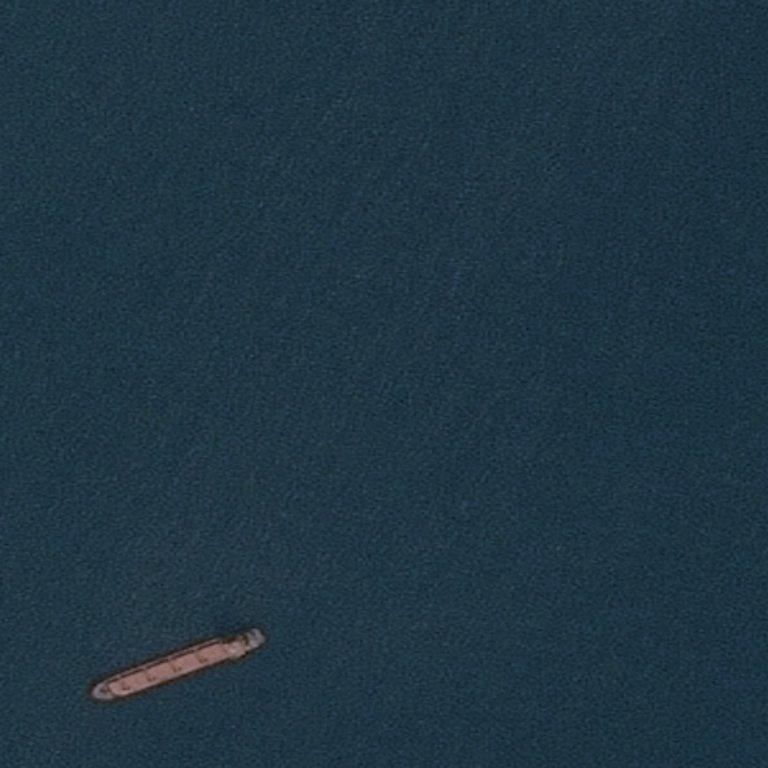ship: (87, 626, 267, 702), (89, 693, 100, 700), (0, 630, 5, 639), (259, 642, 266, 647)
